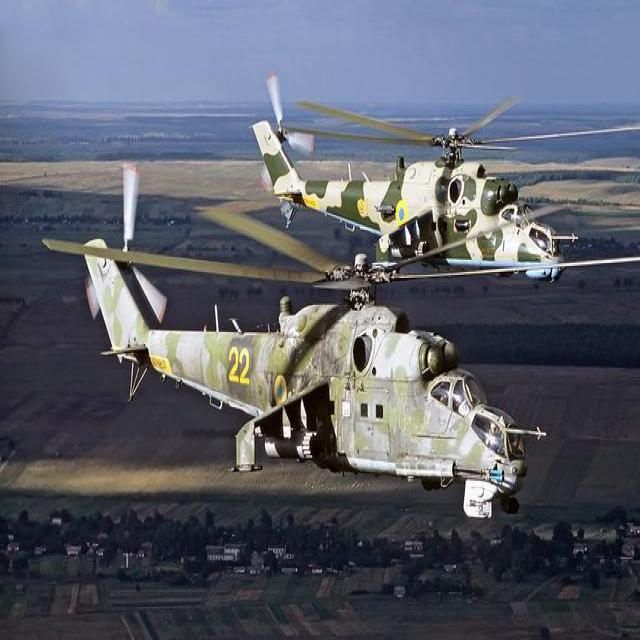MIL_HELO: (48, 160, 549, 530), (244, 62, 640, 292)
